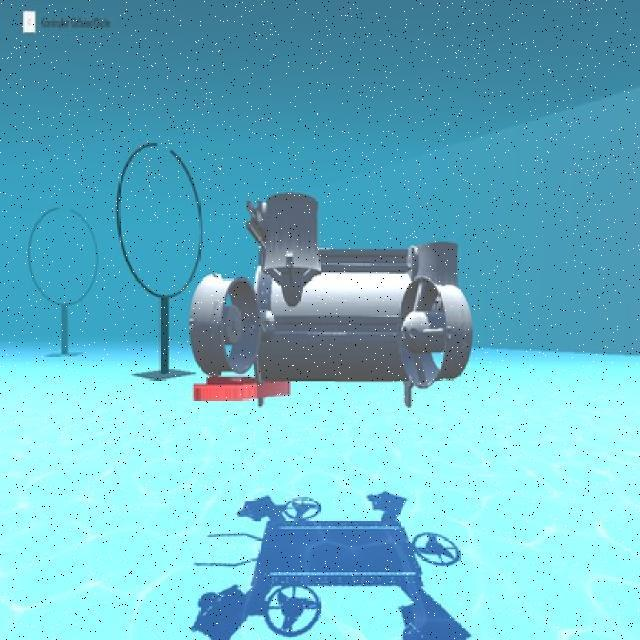Circle: (112, 139, 204, 303), (26, 202, 102, 308)
